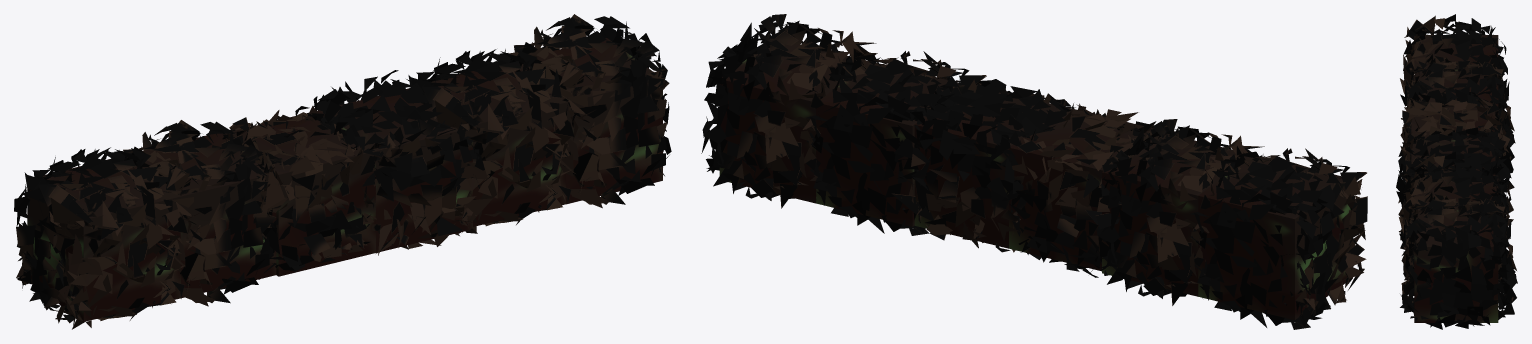
File: lvll2lefthedge.fbx
3 renders of one model, left to right at view 1: azimuth 30°, elevation 25°; view 2: azimuth 150°, elevation 25°; view 3: azimuth 270°, elevation 25°, orthographic. The views are drawn at different scales.
Parts seen in each view (by area): view 1: Cube.155, Cube.165, Cube.161, Cube.163, Cube.157, Cube.159, Cube.156, Cube.160, Cube.158, Cube.164, Cube.162, Cube.166; view 2: Cube.155, Cube.165, Cube.161, Cube.157, Cube.163, Cube.159, Cube.156, Cube.164, Cube.160, Cube.166, Cube.158, Cube.162; view 3: Cube.165, Cube.155, Cube.161, Cube.163, Cube.157, Cube.159, Cube.166, Cube.160, Cube.156, Cube.158, Cube.164, Cube.162.
Boxes of the visible parts, x1=… form: Cube.155: x1=14, y1=147, x2=191, y2=329; Cube.165: x1=504, y1=14, x2=671, y2=208; Cube.161: x1=307, y1=70, x2=494, y2=255; Cube.163: x1=408, y1=49, x2=578, y2=233; Cube.157: x1=123, y1=120, x2=274, y2=306; Cube.159: x1=221, y1=106, x2=377, y2=272; Cube.156: x1=27, y1=159, x2=180, y2=321; Cube.160: x1=225, y1=110, x2=375, y2=276; Cube.158: x1=143, y1=133, x2=277, y2=298; Cube.164: x1=431, y1=69, x2=565, y2=226; Cube.162: x1=321, y1=88, x2=472, y2=252; Cube.166: x1=520, y1=38, x2=662, y2=204; Cube.155: x1=1189, y1=146, x2=1367, y2=329; Cube.165: x1=701, y1=14, x2=877, y2=208; Cube.161: x1=892, y1=79, x2=1075, y2=252; Cube.157: x1=1095, y1=119, x2=1264, y2=305; Cube.163: x1=806, y1=48, x2=986, y2=235; Cube.159: x1=1006, y1=103, x2=1175, y2=277; Cube.156: x1=1198, y1=156, x2=1350, y2=320; Cube.164: x1=816, y1=62, x2=958, y2=226; Cube.160: x1=1009, y1=107, x2=1153, y2=271; Cube.166: x1=719, y1=44, x2=869, y2=203; Cube.158: x1=1102, y1=134, x2=1250, y2=296; Cube.162: x1=914, y1=92, x2=1059, y2=248; Cube.165: x1=1400, y1=196, x2=1517, y2=329; Cube.155: x1=1400, y1=14, x2=1507, y2=110; Cube.161: x1=1396, y1=127, x2=1514, y2=249; Cube.163: x1=1399, y1=151, x2=1508, y2=281; Cube.157: x1=1405, y1=59, x2=1515, y2=173; Cube.159: x1=1398, y1=97, x2=1510, y2=184; Cube.166: x1=1414, y1=211, x2=1498, y2=322; Cube.160: x1=1411, y1=105, x2=1495, y2=141; Cube.156: x1=1414, y1=35, x2=1498, y2=70; Cube.158: x1=1414, y1=70, x2=1498, y2=129; Cube.164: x1=1414, y1=175, x2=1498, y2=211; Cube.162: x1=1411, y1=141, x2=1495, y2=212.
Bounding box in the file's own units: 409 × 98.48 × 93.24.
2 materials, 2 textured.
